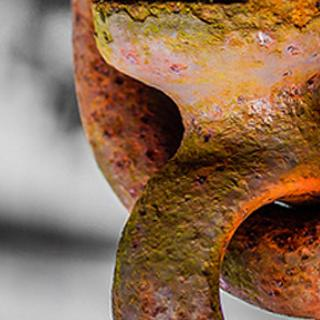rust: (221, 146, 320, 304), (72, 30, 168, 182)
